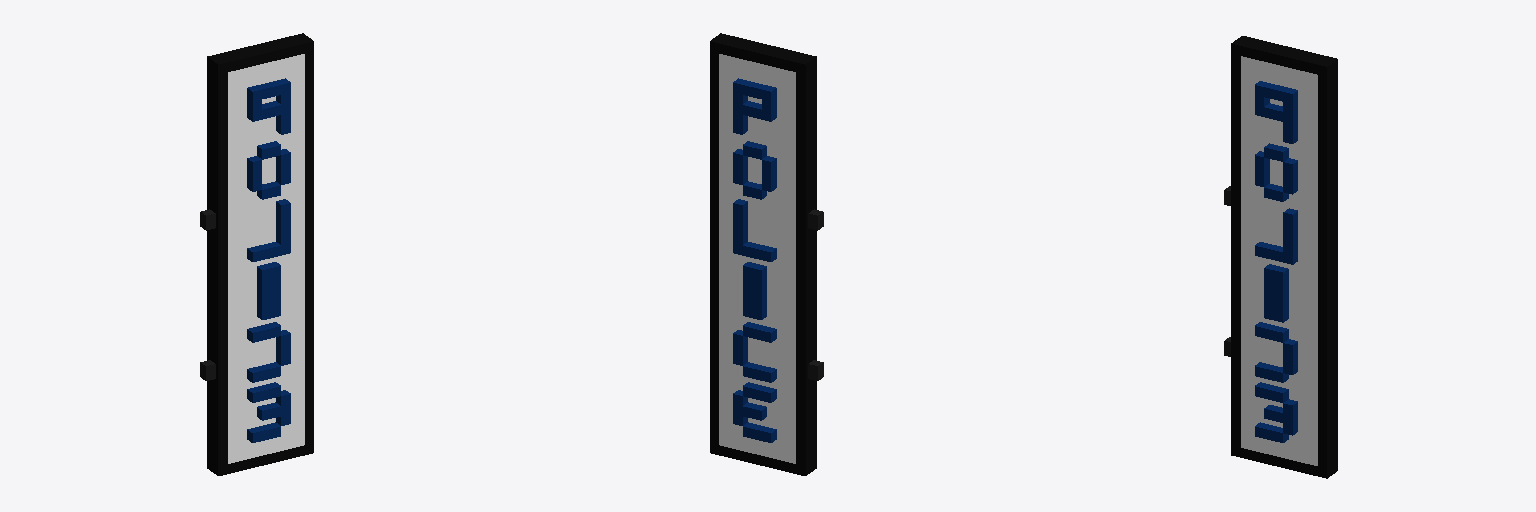
The picture shows the model from 3 angles: view 1: azimuth 30°, elevation 25°; view 2: azimuth 150°, elevation 25°; view 3: azimuth 330°, elevation 25°; orthographic projection.
Visible parts, largest first — view 1: object 1; view 2: object 1; view 3: object 1.
Part boxes in pixels (bbox=[...]): object 1: bbox=[200, 33, 313, 475]; object 1: bbox=[710, 33, 823, 475]; object 1: bbox=[1224, 36, 1337, 478].
Size of the model in its own units: 2.2 by 8.2 by 0.8.
1 materials, 1 textured.